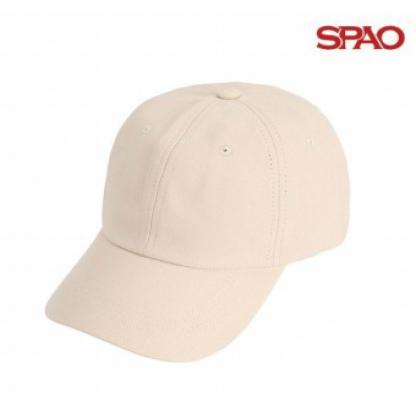cap: (32, 73, 358, 365)
